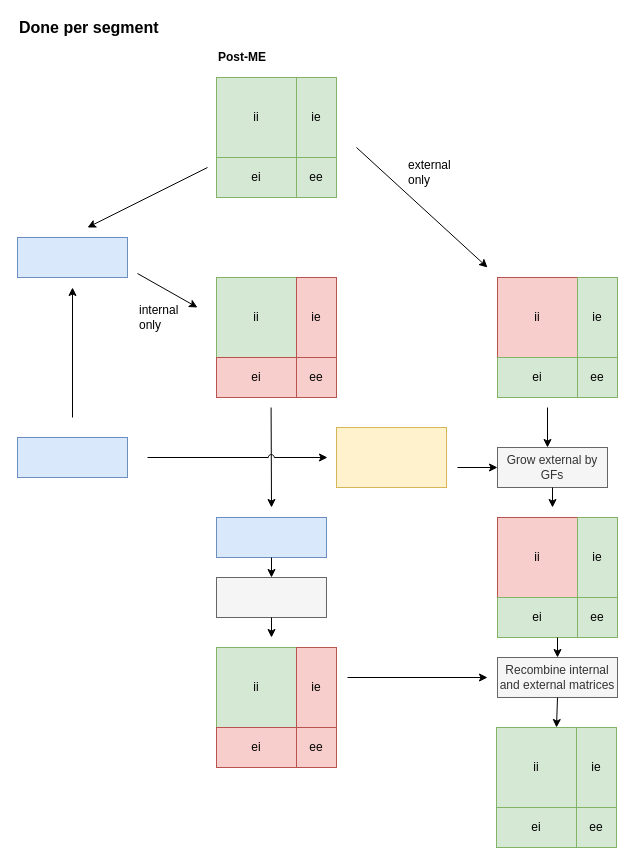
Some shapes in this 635 by 865 pixel diagram are drawn without their labels. The box of each missing label's shape, as (x1, y1, x2, y2) in pixels:
Furness internal trips: (216, 576, 326, 618)
Integrated Post-ME P/A Vectors: (16, 236, 128, 278)
Internal Post-ME P/A Vectors: (216, 516, 326, 558)
Synth Growth Factors (FY/BY) average of external zones only?: (336, 426, 446, 488)
Synth P/A Vectors: (16, 436, 128, 478)
